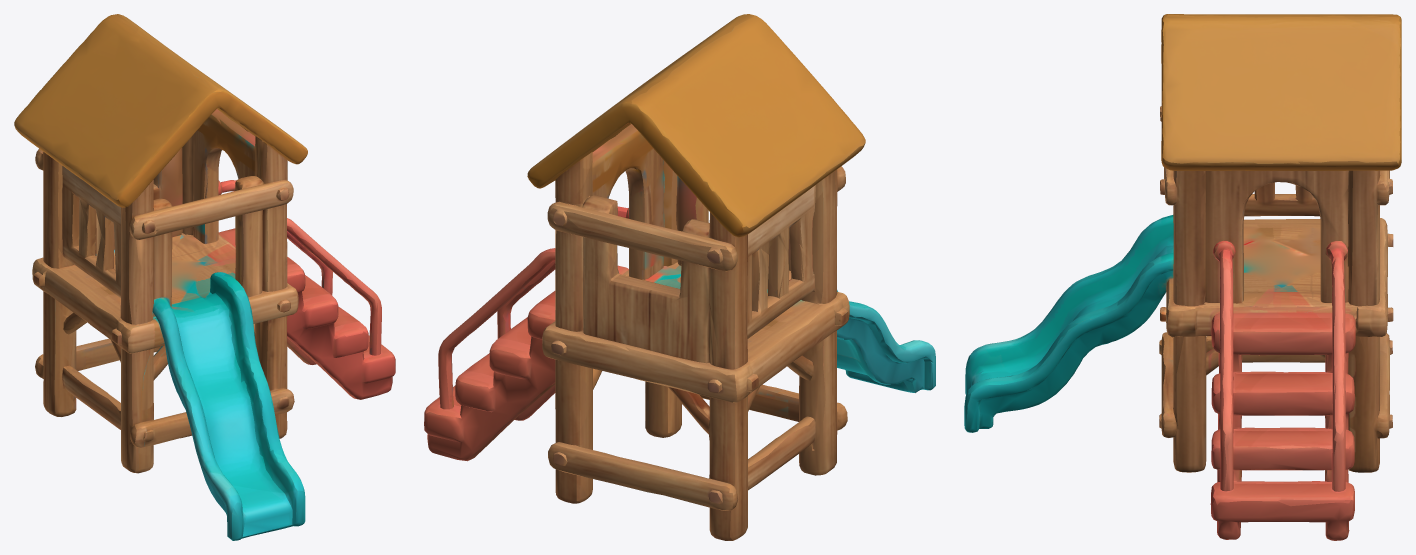
Rendered from PlaygroundClimber.glb.
3 renders of one model, left to right at view 1: azimuth 30°, elevation 25°; view 2: azimuth 150°, elevation 25°; view 3: azimuth 270°, elevation 25°, orthographic. The views are drawn at different scales.
Parts seen in each view (by area): view 1: geometry_0; view 2: geometry_0; view 3: geometry_0.
Boxes of the visible parts, x1=… form: geometry_0: x1=14, y1=14, x2=395, y2=540; geometry_0: x1=424, y1=14, x2=935, y2=540; geometry_0: x1=964, y1=14, x2=1401, y2=540.
Bounding box in the file's own units: 1.29 × 1.5 × 1.42.
Materials: 1 (1 with a texture image).
